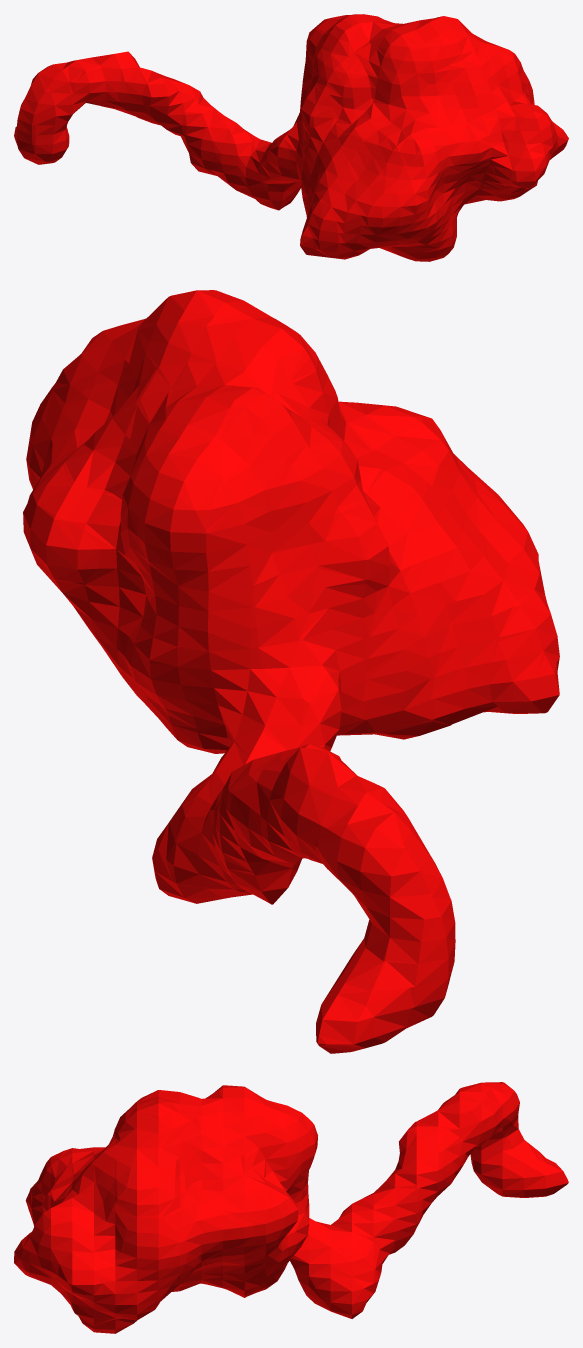
The model's file is fhuF_coarse.dae.
The picture shows the model from 3 angles, top to bottom: view 1: azimuth 30°, elevation 25°; view 2: azimuth 150°, elevation 25°; view 3: azimuth 270°, elevation 25°; orthographic projection. The views are drawn at different scales.
Parts seen in each view (by area): view 1: fhuF; view 2: fhuF; view 3: fhuF.
Boxes of the visible parts, left/top/right/bottom form: fhuF: left=14, top=14, right=568, bottom=261; fhuF: left=23, top=290, right=559, bottom=1053; fhuF: left=14, top=1082, right=568, bottom=1333.
Bounding box in the file's own units: 83.33 × 48.95 × 96.21.
